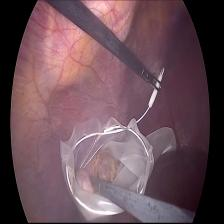Grasper: (141, 61, 162, 93), (89, 173, 104, 190)
Specimen Bag: (54, 64, 179, 216)
